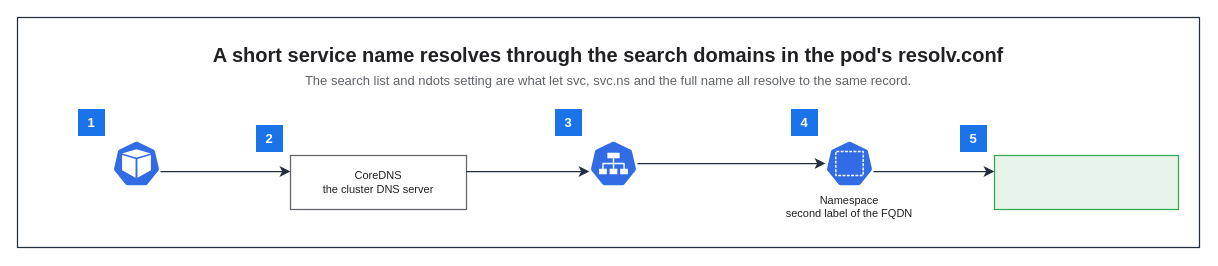
Image size: 1218x266. Some labels were removed from this diagram. Each missing label, with the centre of its shape:
"Pod /etc/resolv.conf search list" belongs at point (136, 163).
"Service the record being looked up" belongs at point (613, 163).
"svc.cluster.local the cluster domain suffix" belongs at point (1086, 182).
